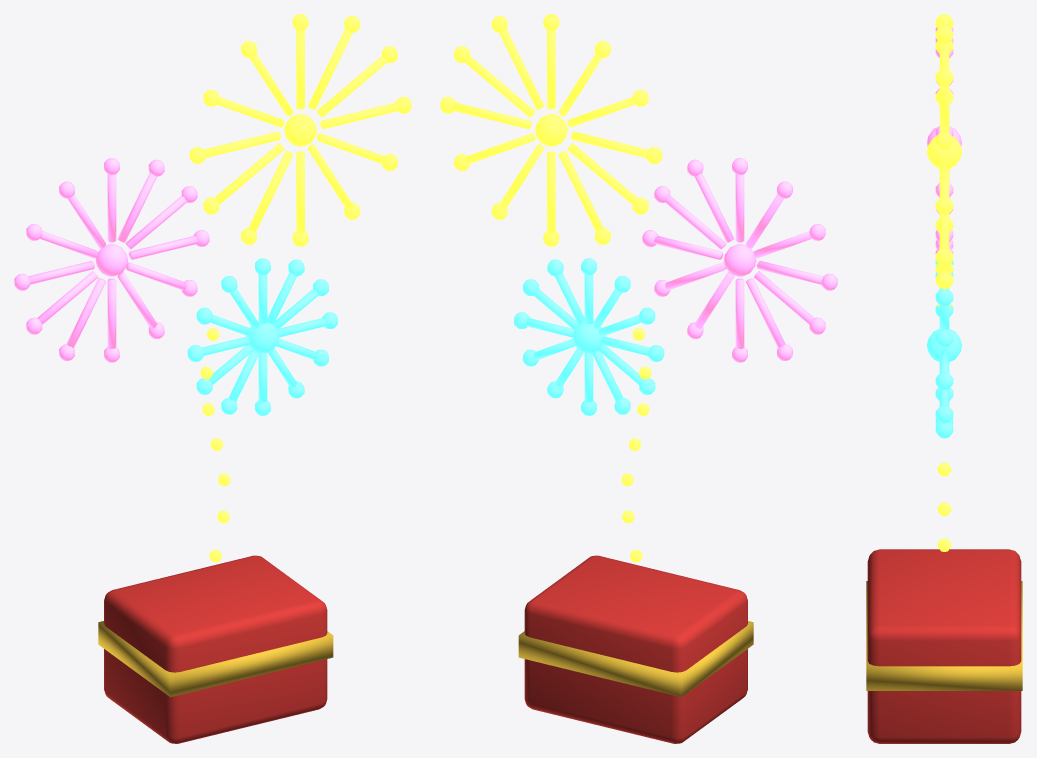
Rendered from d-fireworks.glb.
3 renders of one model, left to right at view 1: azimuth 30°, elevation 25°; view 2: azimuth 150°, elevation 25°; view 3: azimuth 270°, elevation 25°, orthographic. The views are drawn at different scales.
Visible parts, largest first — view 1: d-fireworks; view 2: d-fireworks; view 3: d-fireworks.
Part boxes in pixels (<box>): d-fireworks: <box>14,14,411,743</box>; d-fireworks: <box>440,14,837,743</box>; d-fireworks: <box>866,14,1022,743</box>.
Size of the model in its own units: 0.1239 by 0.2 by 0.0391.
